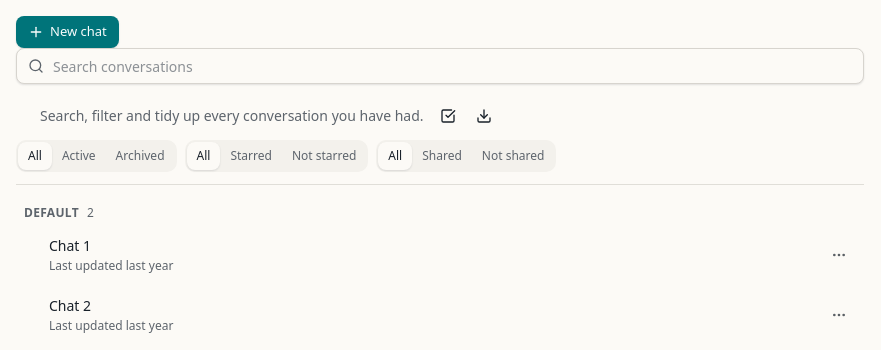
RecentPage bulk actions › clears the selection when a filter changes
Expected: the text "Chat 1" is shown, [49,236,91,256]
Click the 2nd checkbox labelled "Chat 1 Last updated last year".
click(440, 255)  # box [16,225,864,285]
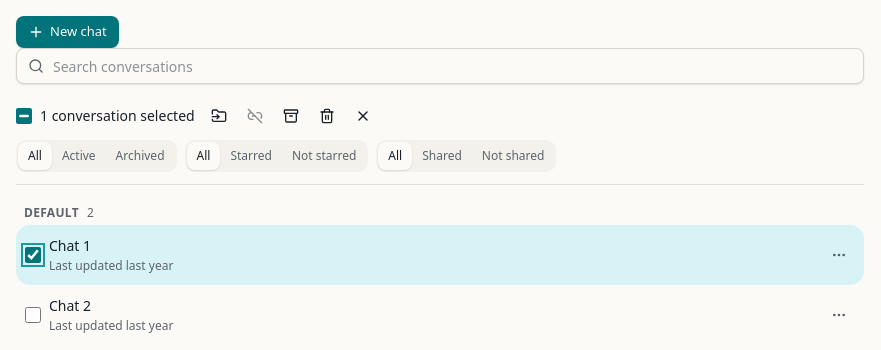
Now the text "1 conversation selected" is shown, box [40,106,195,126]
Click the radio button labelled "Active".
click(79, 156)  # box [52,142,106,170]
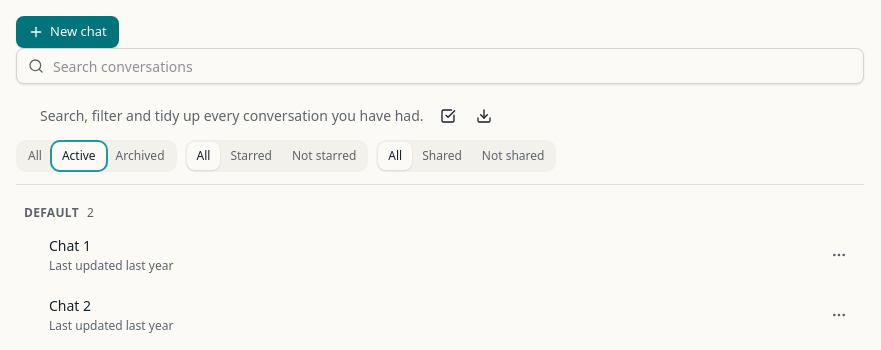
Now the text "1 conversation selected" is gone
